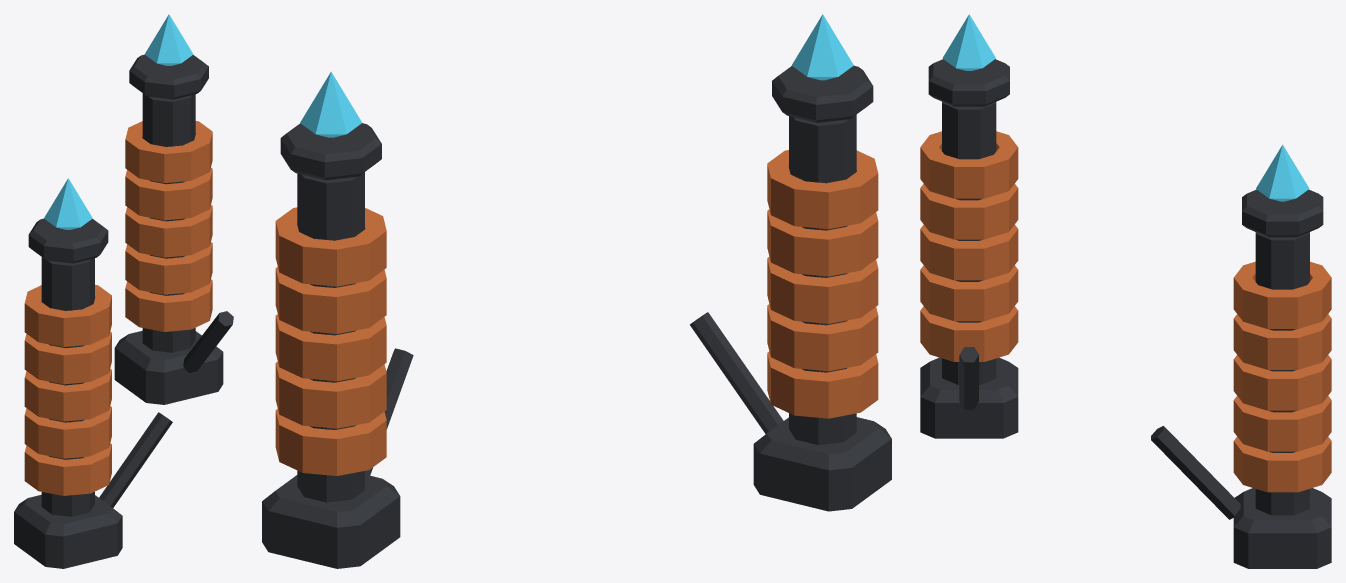
Rendered from GunDressB1.obj.
3 views of the same model, side by side, from view 1: azimuth 30°, elevation 25°; view 2: azimuth 150°, elevation 25°; view 3: azimuth 270°, elevation 25° (orthographic). The views are drawn at different scales.
Parts seen in each view (by area): view 1: GunDressB1; view 2: GunDressB1; view 3: GunDressB1.
Boxes of the visible parts, x1=… form: GunDressB1: x1=14, y1=14, x2=233, y2=568; GunDressB1: x1=262, y1=14, x2=891, y2=568; GunDressB1: x1=920, y1=14, x2=1331, y2=568.
Size of the model in its own units: 0.83 by 0.91 by 0.84.
